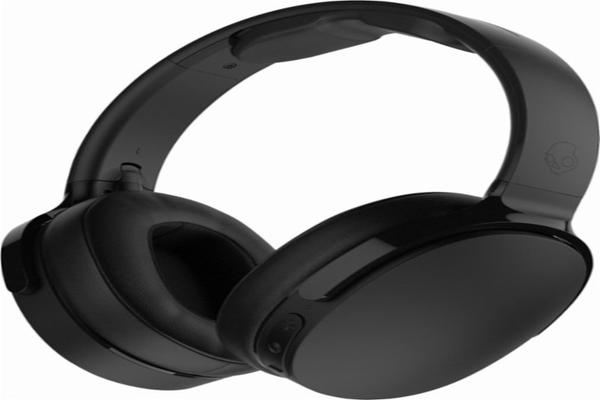headphone: (4, 1, 599, 399)
